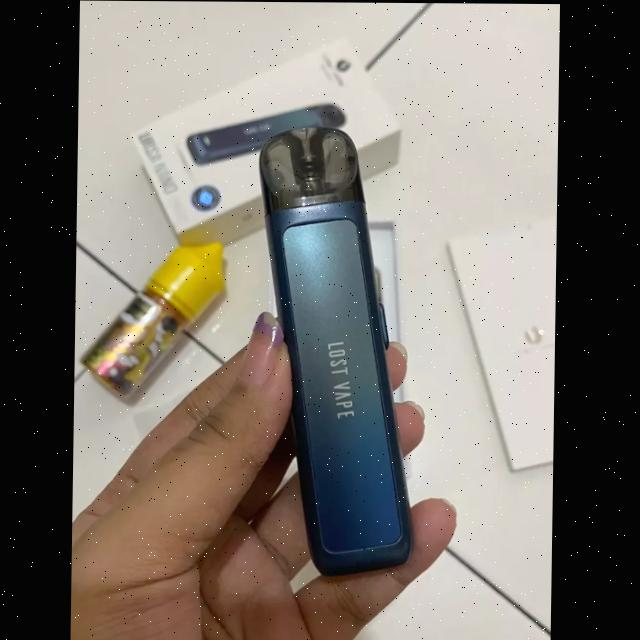vape: (254, 127, 420, 577), (188, 102, 347, 165)
